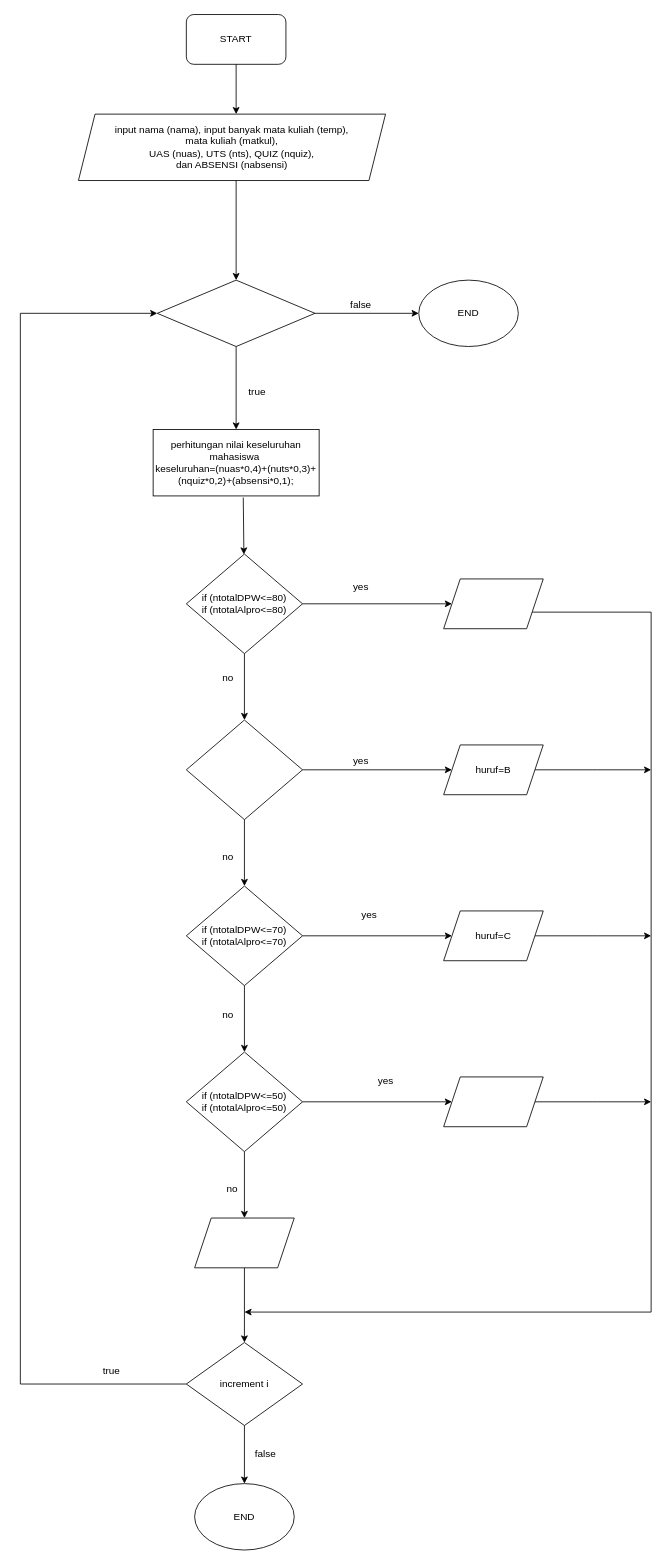
The diagram is 672 pixels wide and 1565 high, and some of its shapes have lost their labels. The centre of each missing label's shape, as x and y in pixels:
"condition for (i = 0 ; i < temp ; i++)" belongs at pixel 235 313.
"huruf=A" belongs at pixel 493 603.
"huruf=D" belongs at pixel 493 1101.
"huruf=E" belongs at pixel 244 1242.
"if (ntotalDPW>=70) if (ntotalAlpro>=70)" belongs at pixel 244 769.
